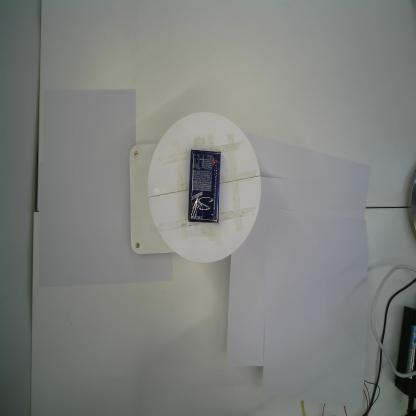Gum: (187, 148, 222, 224)
